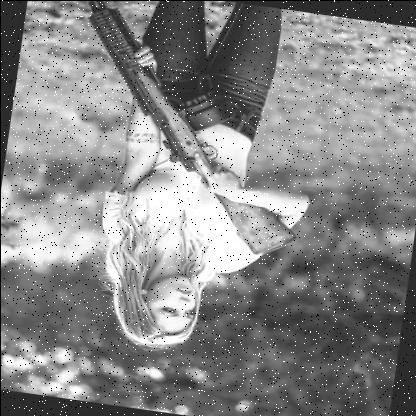rifle: (38, 0, 327, 267)
